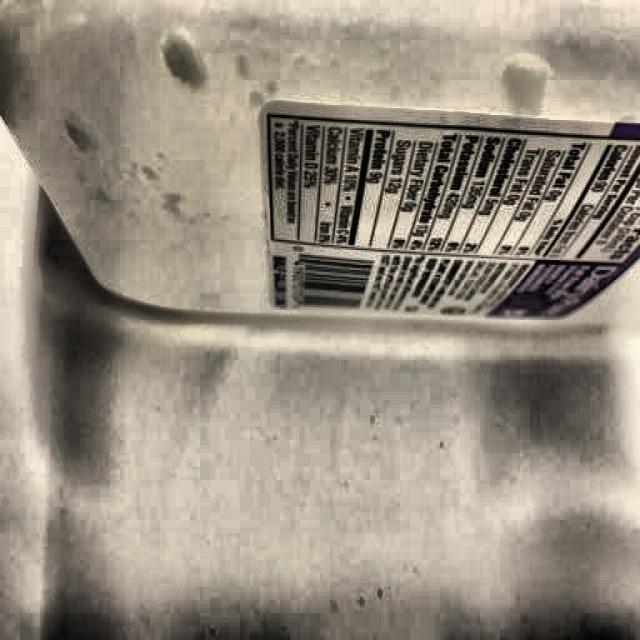plastic: (4, 0, 640, 332)
